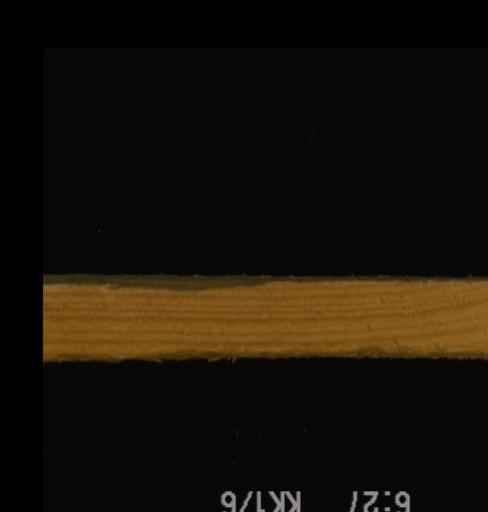wave: (62, 276, 285, 296)
